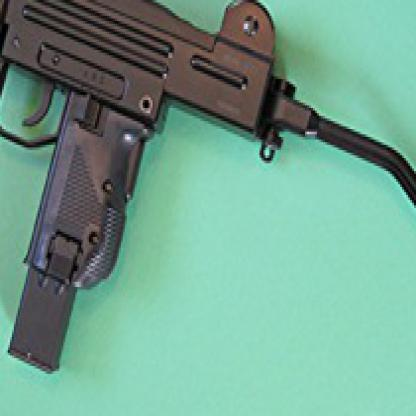gun: (0, 0, 332, 393)
